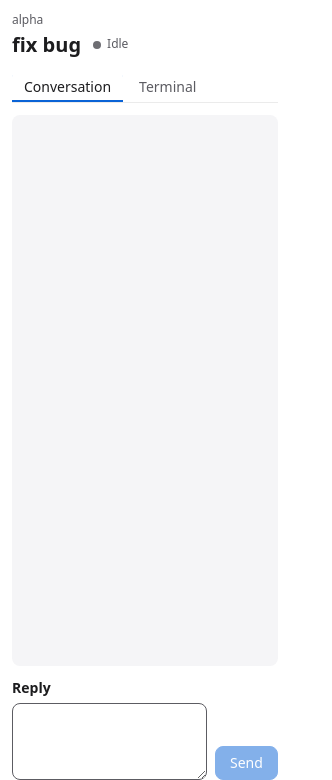
Test: AgentPanel › Cmd+Escape in the terminal focuses the Terminal tab
The image size is (332, 780).
Press the mouse on the tab "Terminal" at (168, 87), box [127, 71, 208, 102]
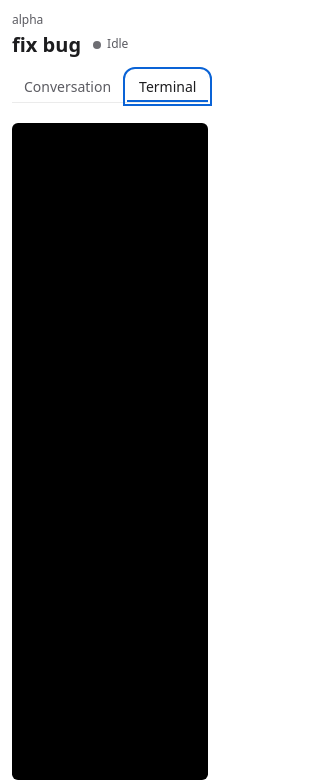
Expected: the element named "Terminal for fix bug" is shown, [12, 123, 208, 779]
